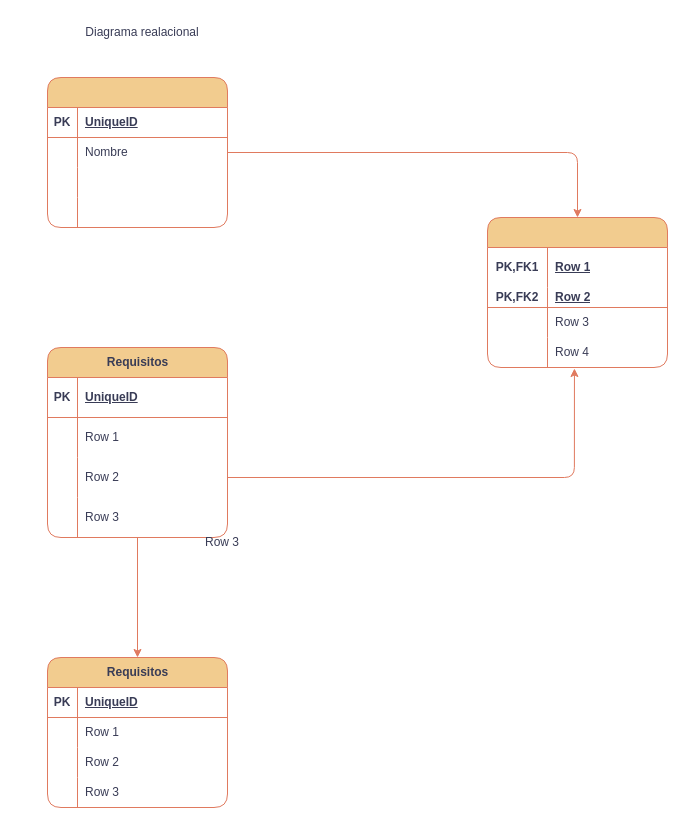
This 685x825 diagram has some shape labels left out. The box of each missing label's shape, as (x1, y1, x2, y2) in pixels:
Relacion Documentos/Subsistemas: (486, 216, 668, 368)
Subsistemas: (46, 76, 228, 228)
